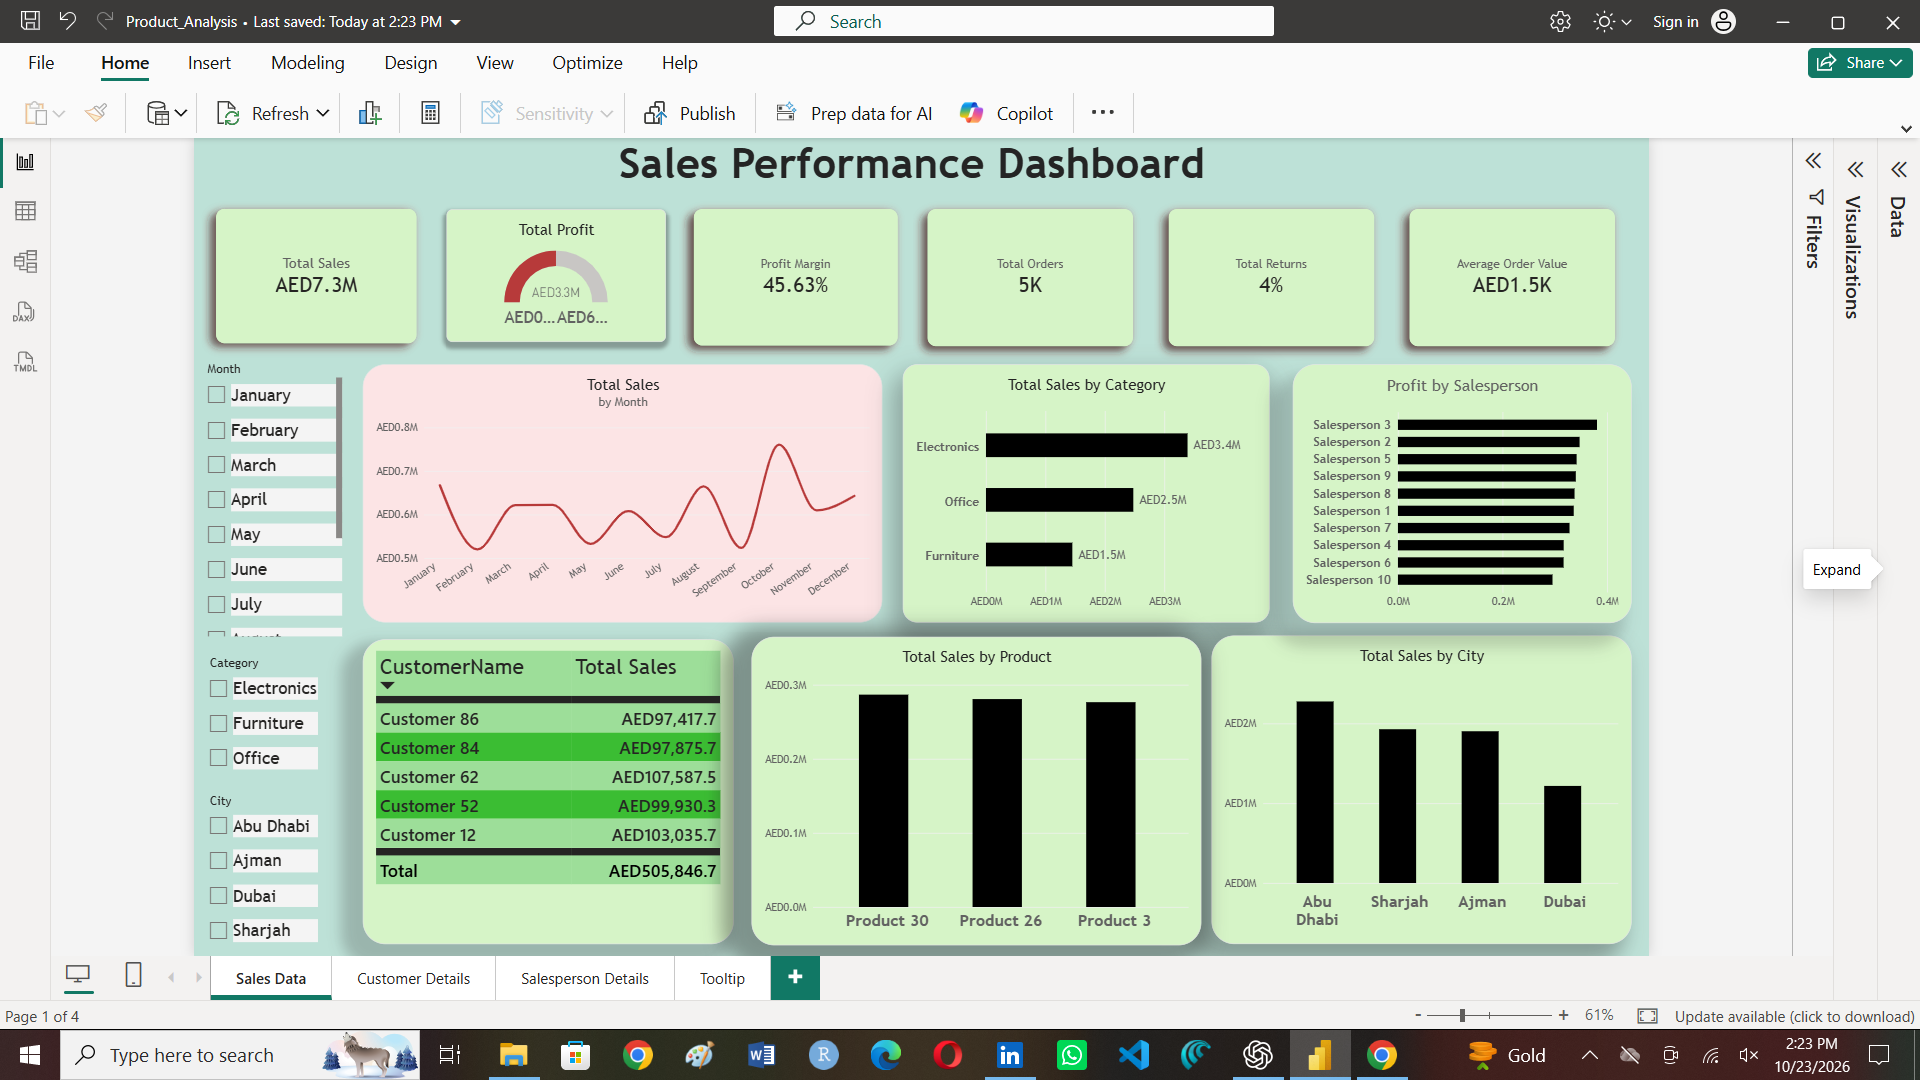

The dashboard page shown, as its layout file describes it:
{"tool":"powerbi","page":{"name":"Sales Data","canvas":[1920,1080],"ordinal":0},"visuals":[{"type":"cardVisual","fields":{"Data":["Measure Table.Total Sales"]},"box":[10.7,75,303.6,216.1],"z":0},{"type":"cardVisual","fields":{"Data":["Measure Table.Profit Margin"]},"box":[639.3,75,308.9,219.6],"z":2000},{"type":"cardVisual","fields":{"Data":["Measure Table.Total Orders","Measure Table.Total Returns","Measure Table.Average Order Value"]},"box":[948.9,74.1,946.8,220.2],"z":3000},{"type":"lineChart","fields":{"Category":["Date Table.Month"],"Y":["Measure Table.Total Sales"]},"box":[223.2,298.2,685.7,341.1],"z":6000},{"type":"barChart","title":"Total Sales by Category","fields":{"Category":["Products.Category"],"Y":["Measure Table.Total Sales"]},"box":[935.7,298.2,483.9,341.1],"z":7000},{"type":"clusteredColumnChart","fields":{"Category":["Customers.City"],"Y":["Measure Table.Total Sales"]},"box":[1342.6,656.4,554.2,407.4],"z":8000},{"type":"clusteredBarChart","fields":{"Category":["Salespersons.Salesperson"],"Y":["Sum(Orders.Profit)"]},"box":[1449.8,298.5,447,341.4],"z":9000},{"type":"tableEx","fields":{"Values":["Customers.CustomerName","Measure Table.Total Sales"]},"box":[222.7,661.4,489.9,402.4],"z":10000},{"type":"clusteredColumnChart","title":"Total Sales by Product","fields":{"Category":["Products.ProductName"],"Y":["Measure Table.Total Sales"]},"box":[735.6,658.1,593.8,407.4],"z":11000},{"type":"slicer","fields":{"Values":["Date Table.Month"]},"box":[10.7,294.6,185.7,362.5],"z":11002},{"type":"slicer","fields":{"Values":["Products.Category"]},"box":[12.5,682.1,150,178],"z":11003},{"type":"slicer","fields":{"Values":["Customers.City"]},"box":[12.5,864.3,150,216.1],"z":11004},{"type":"textbox","box":[196.4,0,1501.8,75],"z":11005},{"type":"gauge","fields":{"Y":["Measure Table.Total Profit"]},"box":[333.9,94.6,289.3,175],"z":11006}]}

Visuals, with their boxes on the page's 1920x1080 design canvas (x1, y1, x2, y2). These are canvas units, not pixel positions in the 1920x1080 screenshot, which may show the page scaled, cropped or inside an application window:
cardVisual - Measure Table.Total Sales: <box>11,75,314,291</box>
cardVisual - Measure Table.Profit Margin: <box>639,75,948,295</box>
cardVisual - Measure Table.Total Orders x Measure Table.Total Returns: <box>949,74,1896,294</box>
lineChart - Date Table.Month x Measure Table.Total Sales: <box>223,298,909,639</box>
"Total Sales by Category" barChart: <box>936,298,1420,639</box>
clusteredColumnChart - Customers.City x Measure Table.Total Sales: <box>1343,656,1897,1064</box>
clusteredBarChart - Salespersons.Salesperson x Sum(Orders.Profit): <box>1450,298,1897,640</box>
tableEx - Customers.CustomerName x Measure Table.Total Sales: <box>223,661,713,1064</box>
"Total Sales by Product" clusteredColumnChart: <box>736,658,1329,1066</box>
slicer - Date Table.Month: <box>11,295,196,657</box>
slicer - Products.Category: <box>12,682,162,860</box>
slicer - Customers.City: <box>12,864,162,1080</box>
textbox: <box>196,0,1698,75</box>
gauge - Measure Table.Total Profit: <box>334,95,623,270</box>
